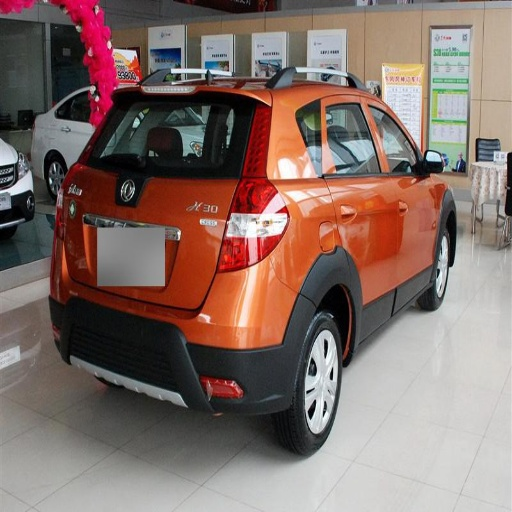back_bumper: (63, 253, 313, 416)
back_right_door: (324, 95, 395, 324)
tailgate: (148, 213, 222, 308)
trunk: (68, 170, 237, 307)
